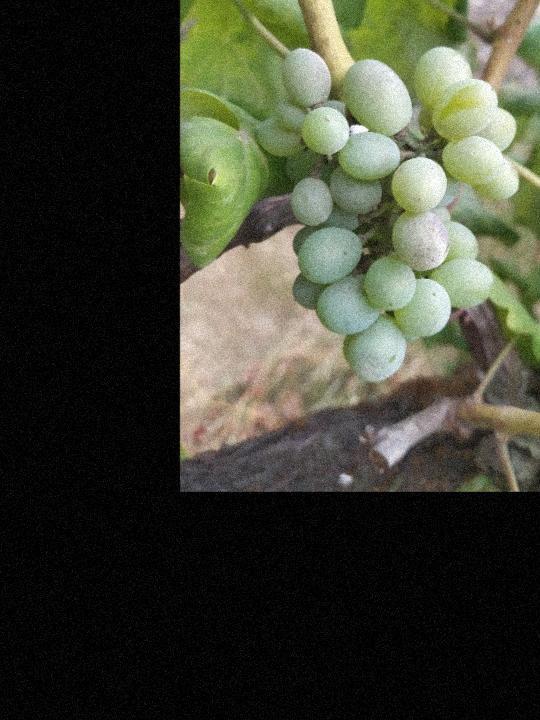grape: (252, 44, 523, 385)
